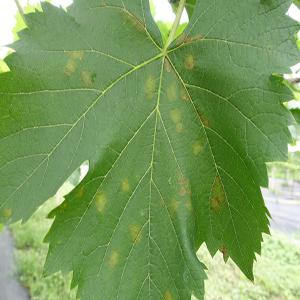Folha: (0, 0, 298, 298)
Fungo: (208, 174, 226, 214), (64, 49, 85, 76), (144, 73, 158, 100), (169, 108, 183, 134), (94, 189, 107, 213), (129, 222, 142, 244), (166, 81, 178, 103), (81, 68, 93, 87), (167, 196, 179, 215), (108, 248, 119, 268), (192, 138, 203, 158), (198, 110, 210, 128), (64, 58, 76, 76), (184, 52, 194, 70), (3, 206, 13, 222), (121, 177, 130, 193), (220, 244, 228, 262), (163, 56, 171, 73), (178, 180, 186, 196), (180, 88, 189, 101), (175, 120, 183, 134), (76, 184, 84, 198), (163, 289, 173, 299), (168, 176, 176, 188), (202, 118, 210, 128), (90, 71, 96, 82), (214, 195, 220, 205), (183, 94, 189, 101)
